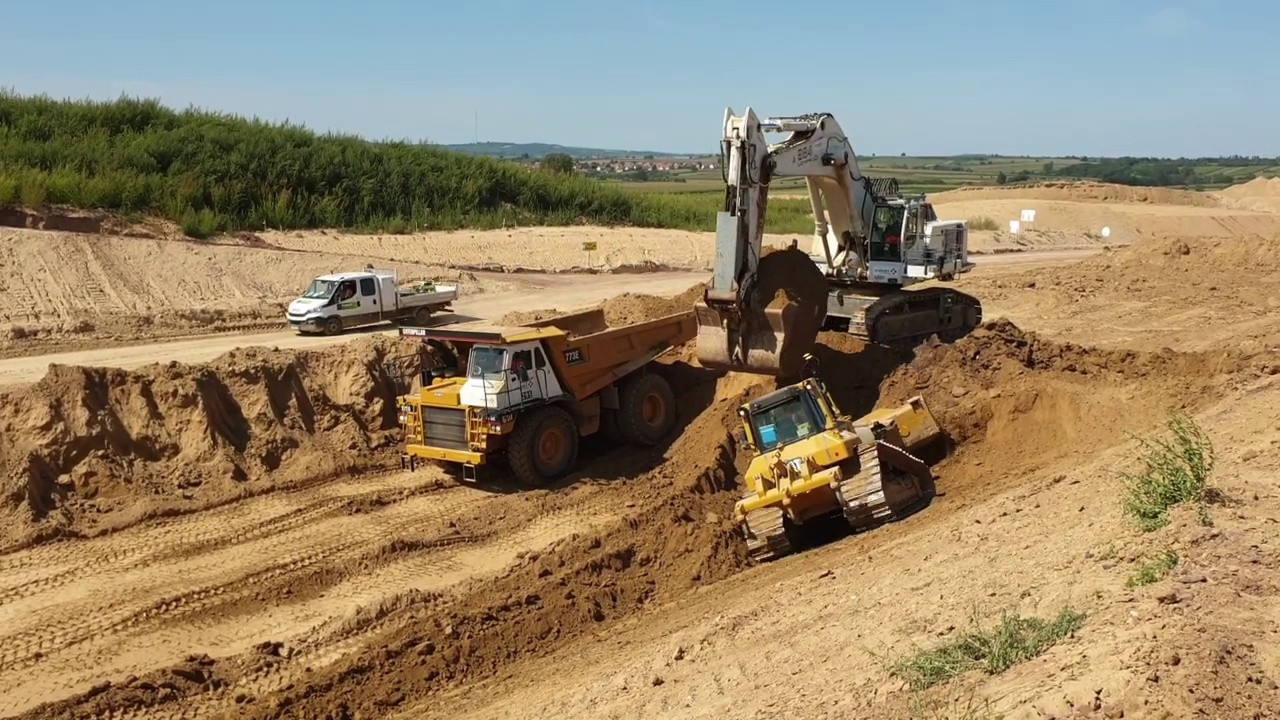bulldozer: (725, 375, 963, 569)
excavator: (695, 100, 984, 385)
truck: (395, 307, 705, 498), (284, 267, 459, 338)
